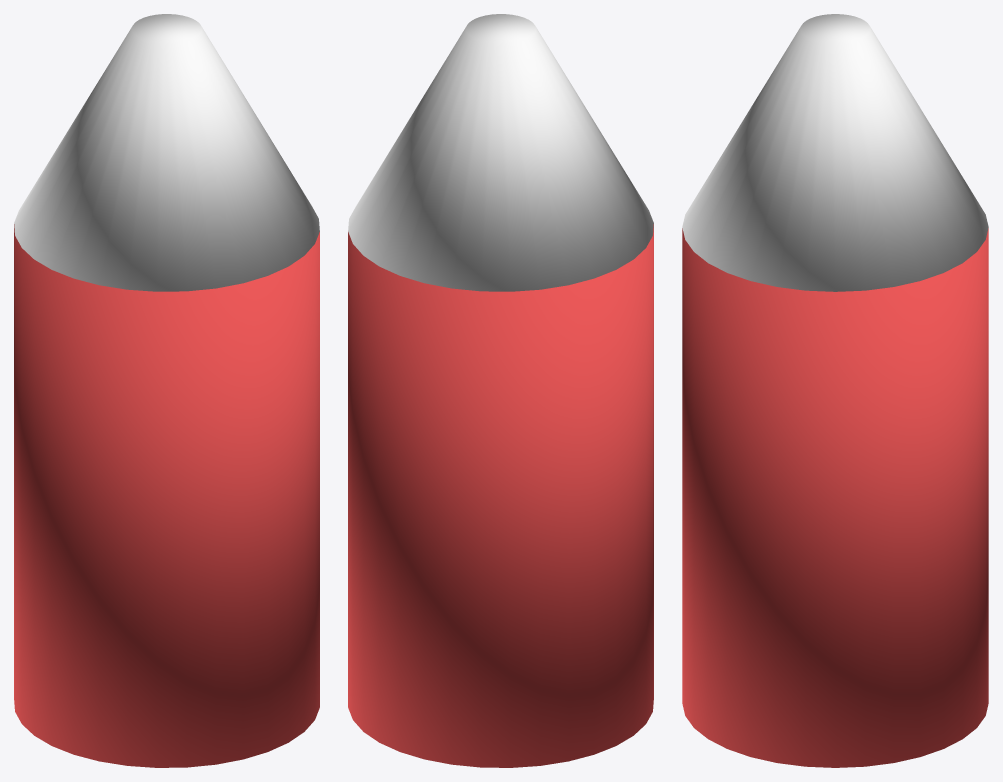
The model's file is ketchup_bottle.glb.
The picture shows the model from 3 angles, left to right: view 1: azimuth 30°, elevation 25°; view 2: azimuth 150°, elevation 25°; view 3: azimuth 270°, elevation 25°; orthographic projection.
Visible parts, largest first — view 1: KetchupBottle; view 2: KetchupBottle; view 3: KetchupBottle.
Boxes of the visible parts, x1,y1,x2,y2 form: KetchupBottle: [14, 14, 319, 767]; KetchupBottle: [348, 14, 653, 767]; KetchupBottle: [682, 14, 988, 767].
Size of the model in its own units: 0.7 by 1.7 by 0.7.
